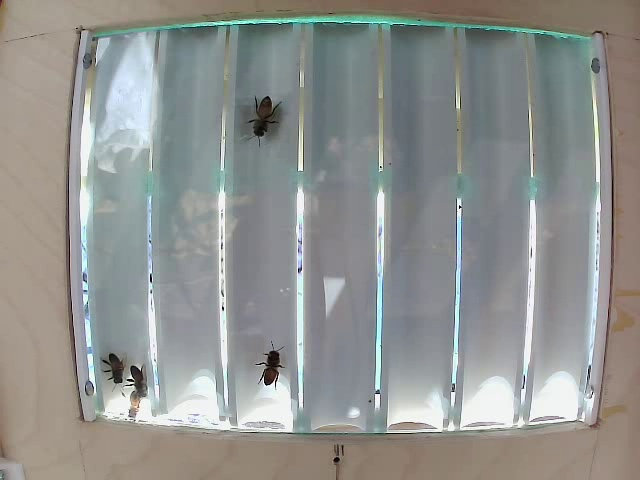bee: (247, 86, 288, 166), (256, 337, 282, 391)
